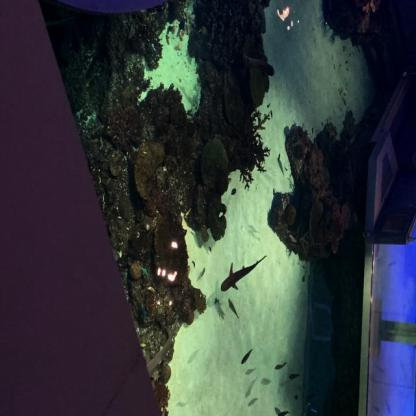fish: (226, 297, 239, 320), (241, 347, 252, 365), (287, 371, 301, 382), (274, 361, 288, 372), (275, 409, 291, 415)
shark: (221, 254, 268, 294)
